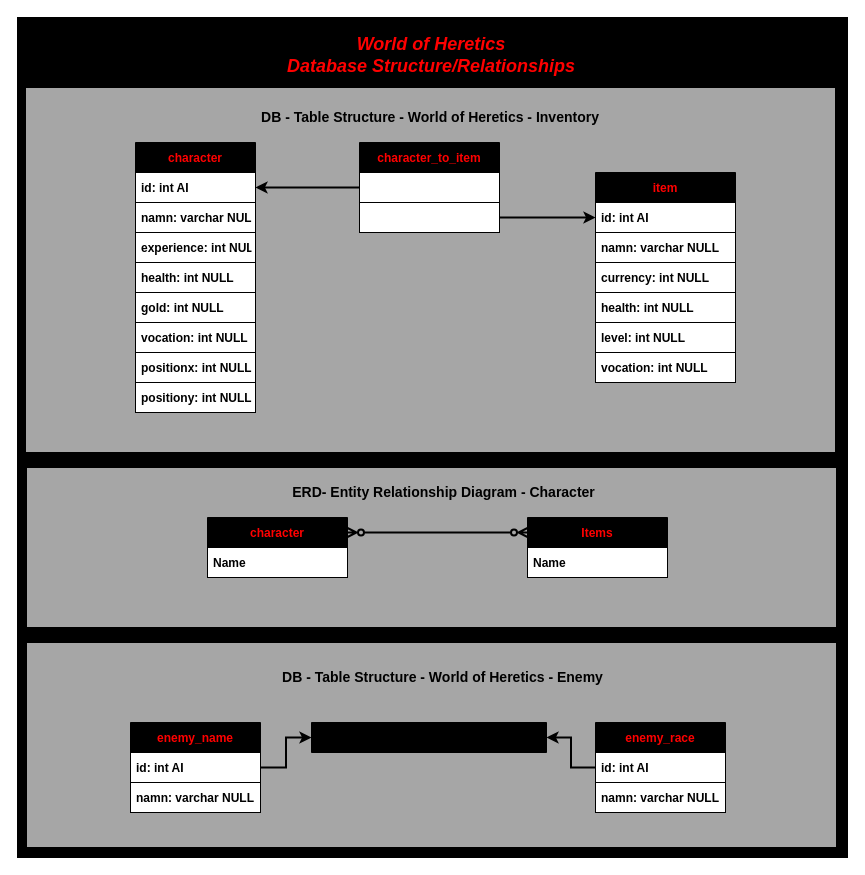
This 865x875 diagram has some shape labels left out. Each missing label, with the centre of its shape:
EnemyHandler.cs/Connect.cs: pixel 428 737
FK character_id: pixel 429 187
FK item_id: pixel 429 217
